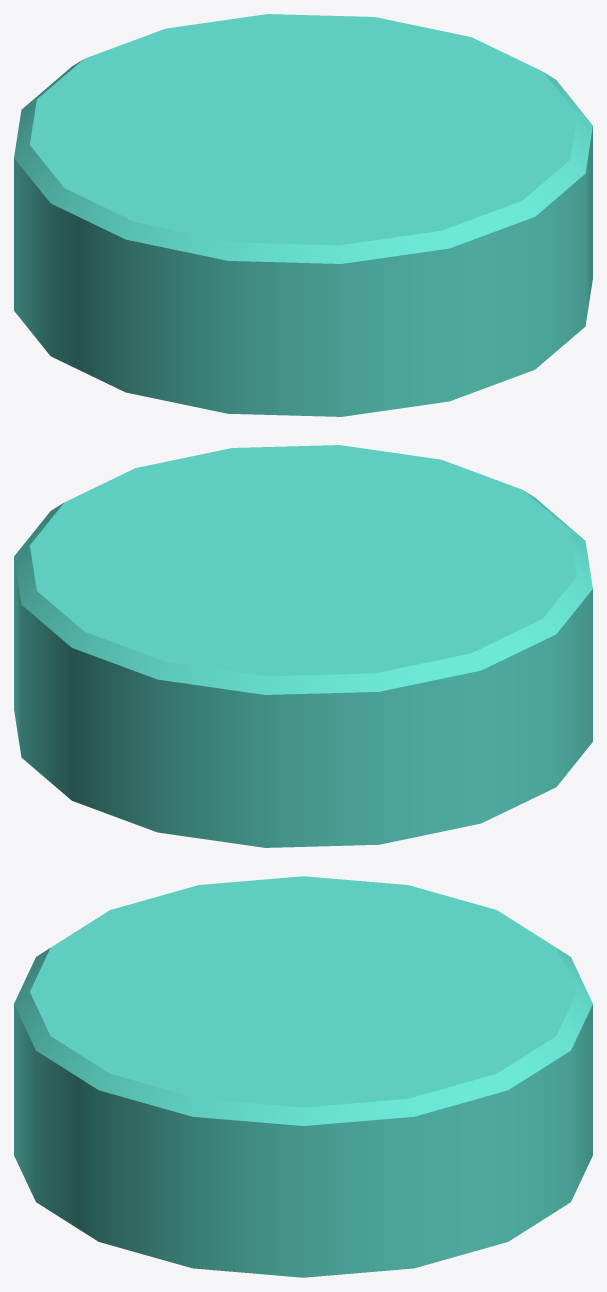
The model's file is BASE_MANEQUIN1.fbx.
3 renders of one model, top to bottom at view 1: azimuth 30°, elevation 25°; view 2: azimuth 150°, elevation 25°; view 3: azimuth 270°, elevation 25°, orthographic.
Visible parts, largest first — view 1: Cylinder.001; view 2: Cylinder.001; view 3: Cylinder.001.
Boxes of the visible parts, x1,y1,x2,y2 form: Cylinder.001: [14, 14, 592, 416]; Cylinder.001: [14, 445, 592, 847]; Cylinder.001: [14, 876, 592, 1277].
Bounding box in the file's own units: 89.08 × 27.76 × 89.08.
